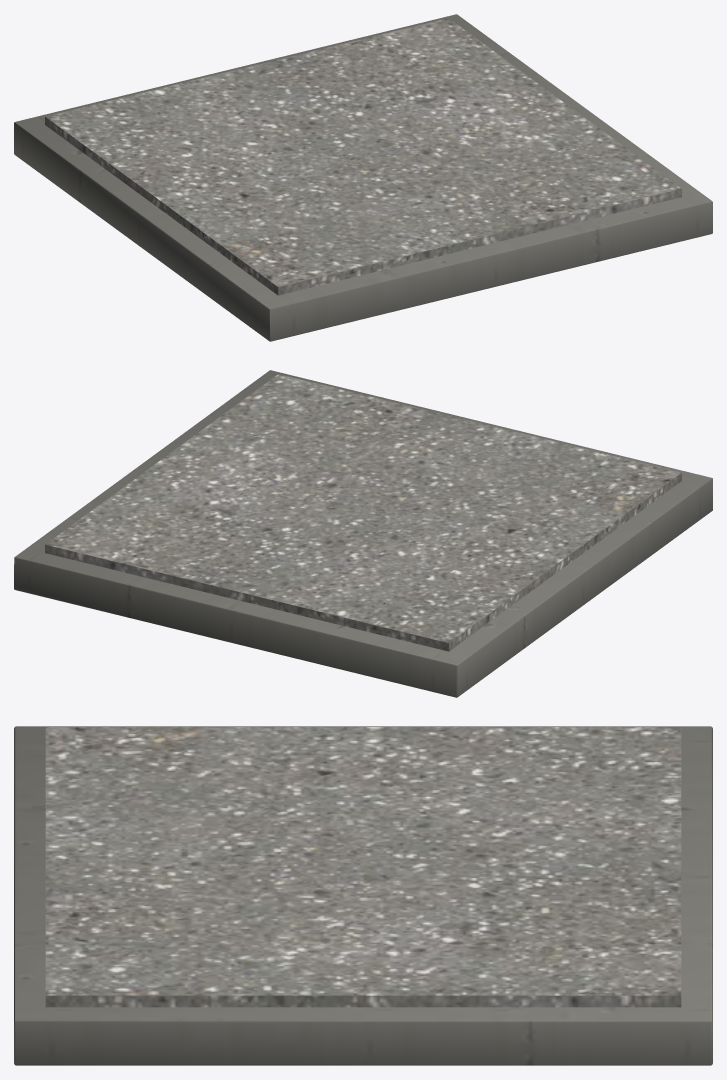
File: PIS-CTP-002_lod1.glb
The picture shows the model from 3 angles, top to bottom: view 1: azimuth 30°, elevation 25°; view 2: azimuth 150°, elevation 25°; view 3: azimuth 270°, elevation 25°; orthographic projection. The views are drawn at different scales.
Visible parts, largest first — view 1: PIS-CTP-002_regularizacao, PIS-CTP-002_laje; view 2: PIS-CTP-002_regularizacao, PIS-CTP-002_laje; view 3: PIS-CTP-002_regularizacao, PIS-CTP-002_laje.
Boxes of the visible parts, x1,y1,x2,y2 form: PIS-CTP-002_regularizacao: (45, 18, 681, 295); PIS-CTP-002_laje: (14, 14, 712, 341); PIS-CTP-002_regularizacao: (45, 374, 681, 651); PIS-CTP-002_laje: (14, 370, 712, 697); PIS-CTP-002_regularizacao: (45, 727, 681, 1007); PIS-CTP-002_laje: (14, 726, 712, 1065).
Size of the model in its own units: 1.1 by 0.1011 by 1.1.
2 materials, 2 textured.
